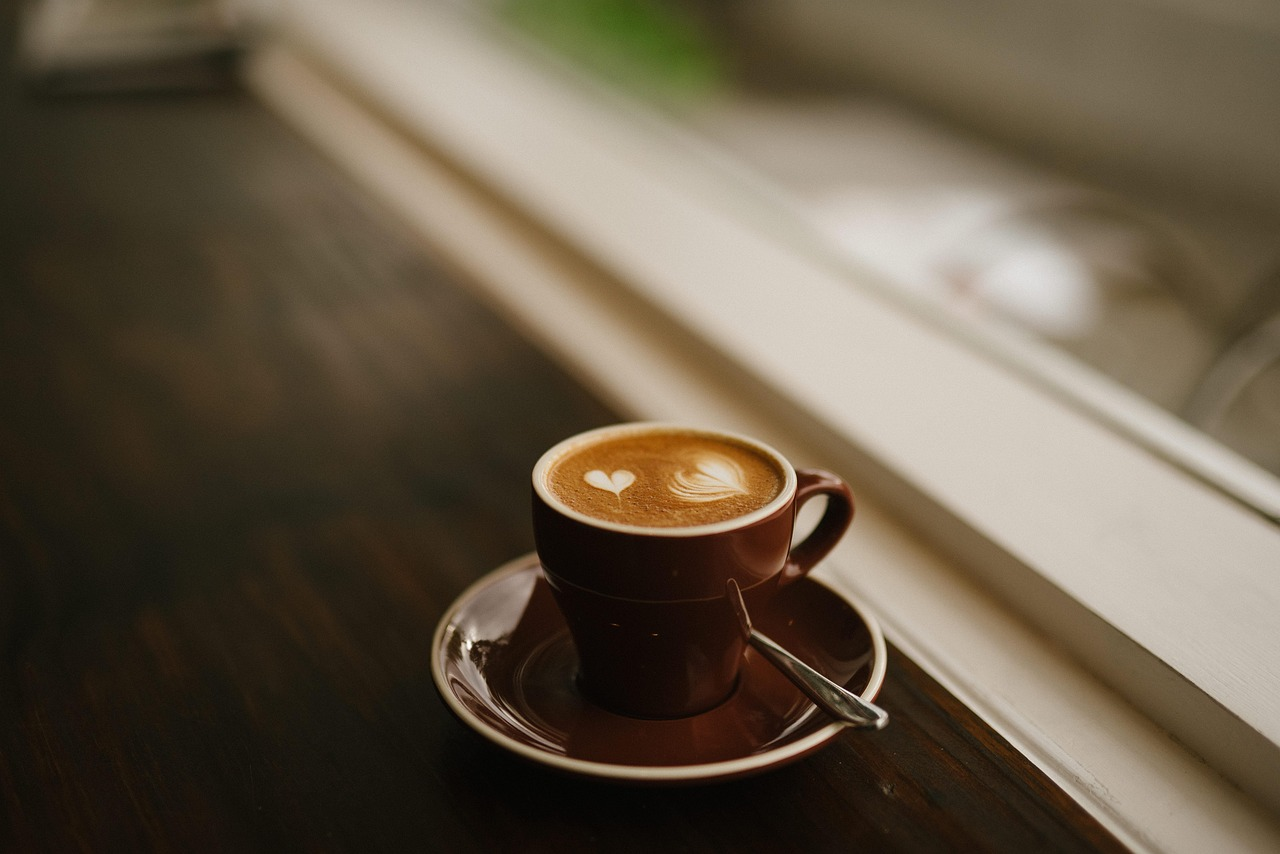mug: (505, 401, 882, 728)
